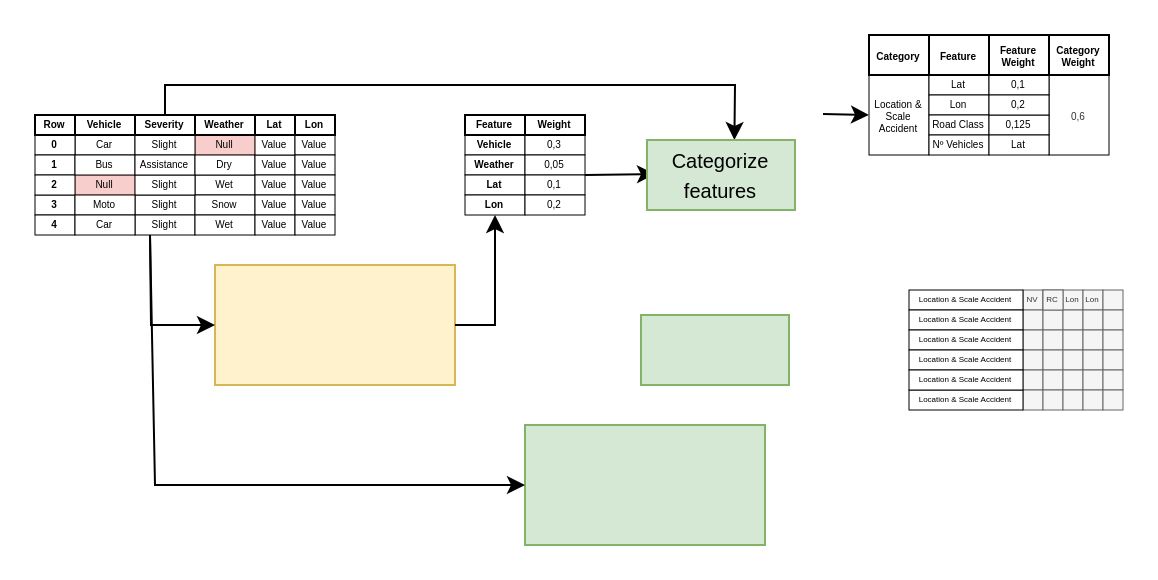
The diagram is 1158 pixels wide and 580 high, and some of its shapes have lost their labels. The shapes that lost their labels are listed below. From the top down, each one's box as (x1, y1, x2, y2) in pixels, then its label:
(213, 263, 455, 385): Genetic Algorithm
(639, 313, 789, 385): Data Indexing
(523, 423, 765, 545): Matrix Construction
